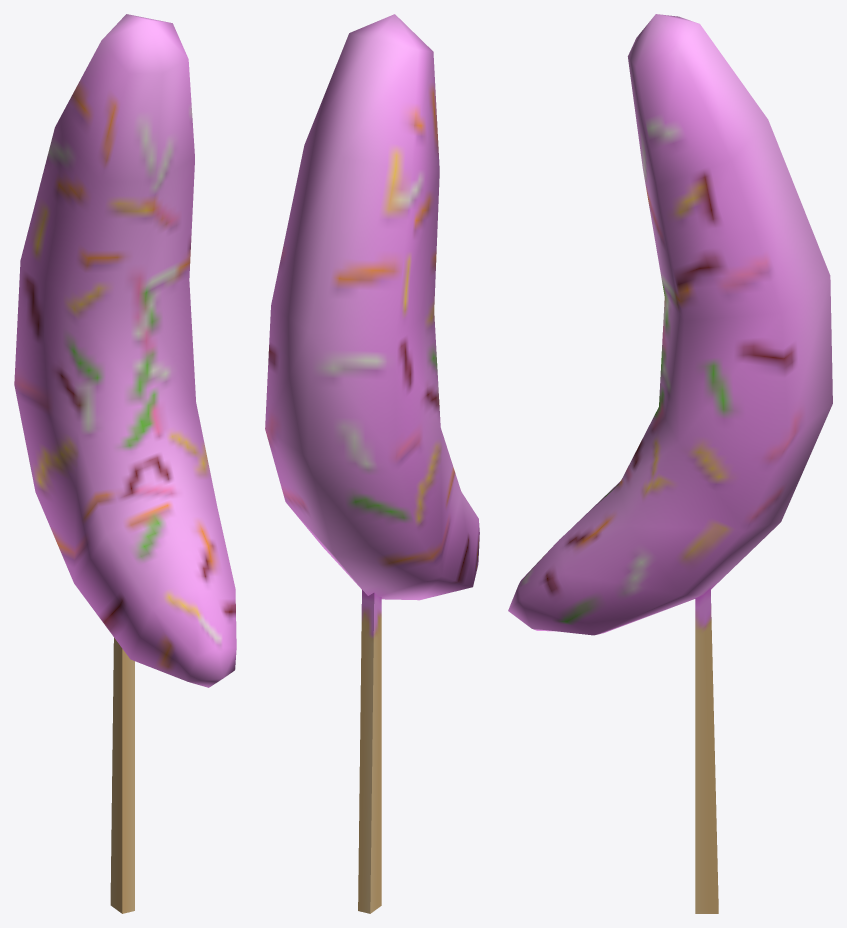
File: jsf_ChocolateBanana_a02_c02.fbx
3 views of the same model, side by side, from view 1: azimuth 30°, elevation 25°; view 2: azimuth 150°, elevation 25°; view 3: azimuth 270°, elevation 25° (orthographic). The views are drawn at different scales.
Visible parts, largest first — view 1: jsf_ChocolateBanana_a02_c02; view 2: jsf_ChocolateBanana_a02_c02; view 3: jsf_ChocolateBanana_a02_c02.
Part boxes in pixels (x1,y1,x2,y2): jsf_ChocolateBanana_a02_c02: (14, 14, 236, 913); jsf_ChocolateBanana_a02_c02: (265, 14, 479, 913); jsf_ChocolateBanana_a02_c02: (508, 14, 832, 913).
Size of the model in its own units: 3.73 by 23.83 by 7.83.
